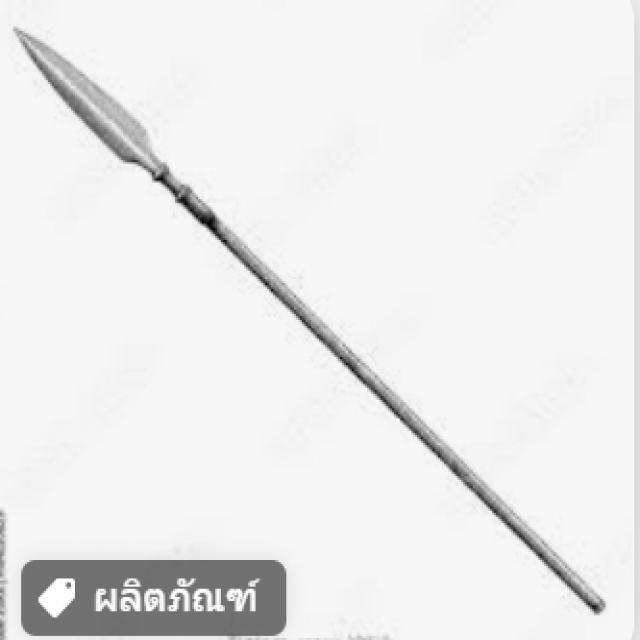spear: (2, 12, 558, 556)
